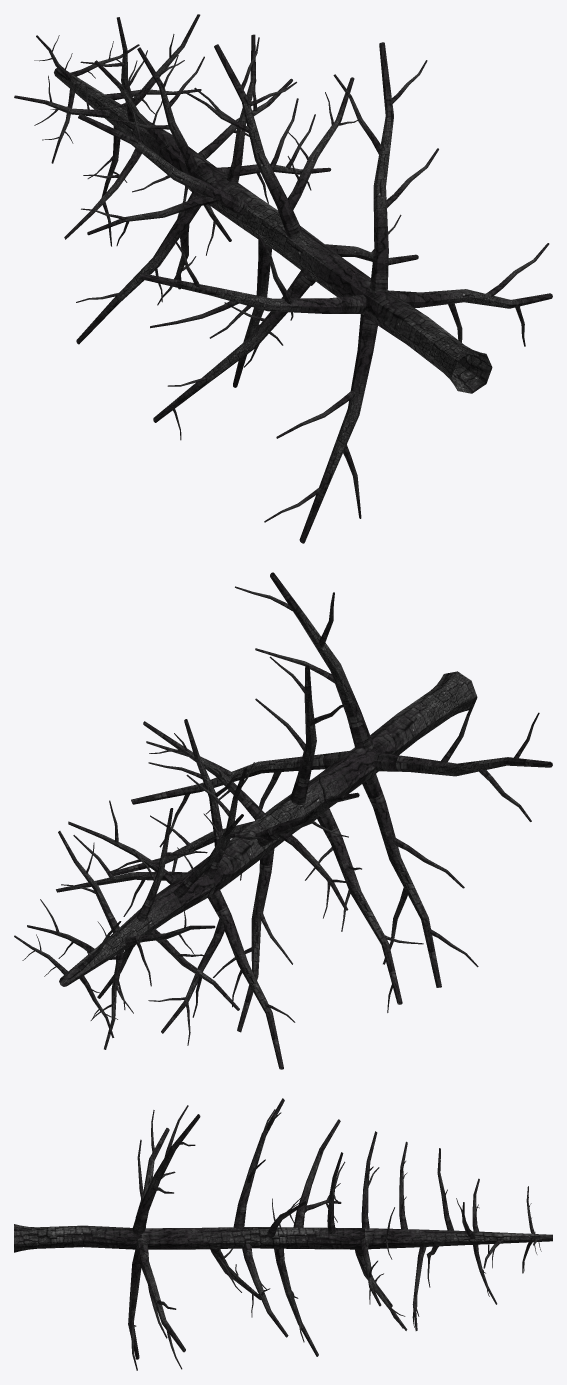
Rendered from SM_TreeBurned.fbx.
The picture shows the model from 3 angles, top to bottom: view 1: azimuth 30°, elevation 25°; view 2: azimuth 150°, elevation 25°; view 3: azimuth 270°, elevation 25°; orthographic projection. The views are drawn at different scales.
Parts seen in each view (by area): view 1: TreeBark.006; view 2: TreeBark.006; view 3: TreeBark.006.
Boxes of the visible parts, <box> form: TreeBark.006: <box>14,14,552,543</box>; TreeBark.006: <box>14,572,552,1069</box>; TreeBark.006: <box>14,1098,552,1370</box>.
Size of the model in its own units: 556 by 544 by 931.
